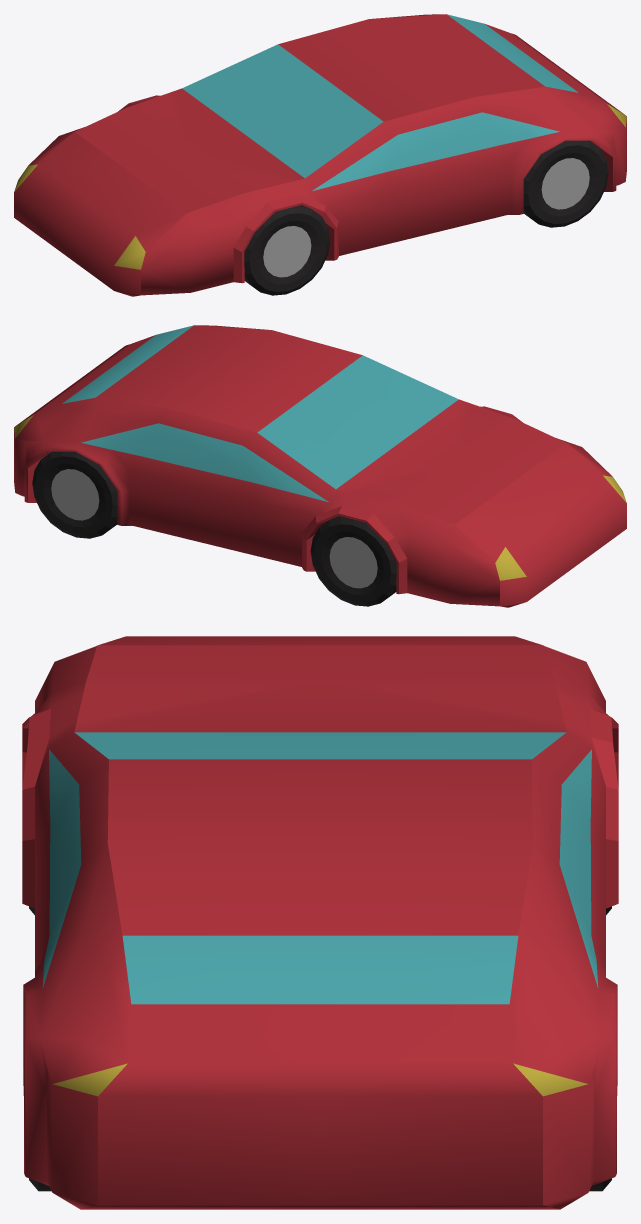
File: finbil.fbx
3 renders of one model, top to bottom at view 1: azimuth 30°, elevation 25°; view 2: azimuth 150°, elevation 25°; view 3: azimuth 270°, elevation 25°, orthographic. The views are drawn at different scales.
Visible parts, largest first — view 1: pCube7; view 2: pCube7; view 3: pCube7.
Part boxes in pixels (x1,y1,x2,y2): pCube7: (14,14,626,296); pCube7: (14,325,626,607); pCube7: (22,636,618,1209).
Size of the model in its own units: 1228 by 311 by 625.
